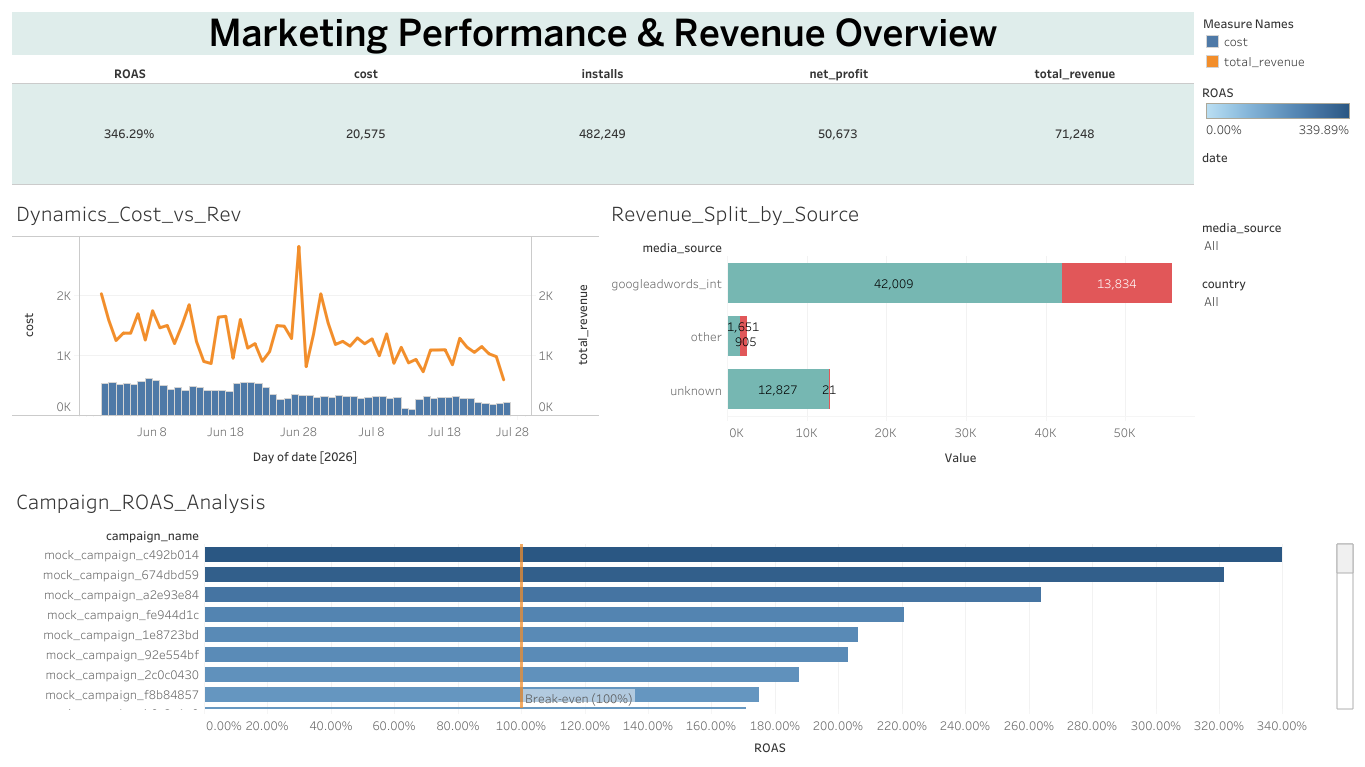

The dashboard page shown, as its layout file describes it:
{"tool":"tableau","page":{"name":"Marketing Performance & Revenue Overview","canvas":[1366,768],"ordinal":0},"visuals":[{"type":"text","box":[8,8,1190,51]},{"type":"legend","title":"Dynamics_Cost_vs_Rev","param":"[federated.1vjsl5119wbo5c134wb3f0p336kr].[:Measure Names]","box":[1198,8,160,72]},{"type":"worksheet","title":"KPI_Banner","mark":"Automatic","box":[8,59,1190,129.9]},{"type":"legend","title":"Campaign_ROAS_Analysis","param":"[federated.1vjsl5119wbo5c134wb3f0p336kr].[usr:Calculation_0377170580058112:qk]","box":[1198,80,160,73]},{"type":"filter","title":"Dynamics_Cost_vs_Rev","param":"[federated.1vjsl5119wbo5c134wb3f0p336kr].[none:date:qk]","box":[1198,153,160,73]},{"type":"worksheet","title":"Dynamics_Cost_vs_Rev","mark":"Automatic","rows":["cost","total_revenue"],"cols":["date"],"box":[8,188.9,595,288.1]},{"type":"worksheet","title":"Revenue_Split_by_Source","mark":"Bar","rows":["media_source"],"box":[603,188.9,595,288.1]},{"type":"filter","title":"Dynamics_Cost_vs_Rev","param":"[federated.1vjsl5119wbo5c134wb3f0p336kr].[none:media_source:nk]","box":[1198,226,160,61]},{"type":"filter","title":"Dynamics_Cost_vs_Rev","param":"[federated.1vjsl5119wbo5c134wb3f0p336kr].[none:country:nk]","box":[1198,287,160,61]},{"type":"worksheet","title":"Campaign_ROAS_Analysis","mark":"Automatic","rows":["campaign_name"],"cols":["Calculation_0377170580058112"],"box":[8,477,1350,283]}]}

Visuals, with their boxes in screenshot pixels (x1, y1, x2, y2), scaled from the page's 1366x768 canvas onto the 1365x767 screenshot:
text: left=8, top=8, right=1197, bottom=59
"Dynamics_Cost_vs_Rev" legend: left=1197, top=8, right=1357, bottom=80
"KPI_Banner" worksheet: left=8, top=59, right=1197, bottom=189
"Campaign_ROAS_Analysis" legend: left=1197, top=80, right=1357, bottom=153
"Dynamics_Cost_vs_Rev" filter: left=1197, top=153, right=1357, bottom=226
"Dynamics_Cost_vs_Rev" worksheet: left=8, top=189, right=603, bottom=476
"Revenue_Split_by_Source" worksheet (Bar marks): left=603, top=189, right=1197, bottom=476
"Dynamics_Cost_vs_Rev" filter: left=1197, top=226, right=1357, bottom=287
"Dynamics_Cost_vs_Rev" filter: left=1197, top=287, right=1357, bottom=348
"Campaign_ROAS_Analysis" worksheet: left=8, top=476, right=1357, bottom=759
